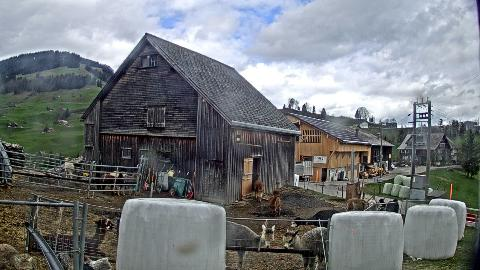sheep: (34, 216, 116, 256), (225, 220, 275, 270), (281, 226, 329, 270), (0, 238, 34, 270), (54, 254, 114, 270), (292, 210, 338, 230), (118, 170, 142, 196), (99, 173, 123, 198), (62, 156, 76, 180), (376, 198, 398, 213), (268, 189, 280, 215), (346, 199, 370, 212), (252, 180, 264, 201), (360, 199, 376, 213), (110, 170, 126, 182), (253, 174, 262, 180)
